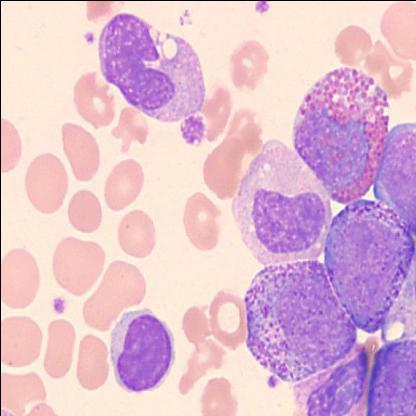Promyelocyte: (240, 262, 352, 382), (323, 204, 410, 334), (365, 340, 415, 415)
